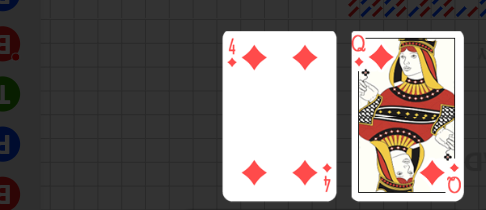4D: (226, 38, 238, 69)
QD: (364, 31, 408, 78), (431, 152, 475, 198)
